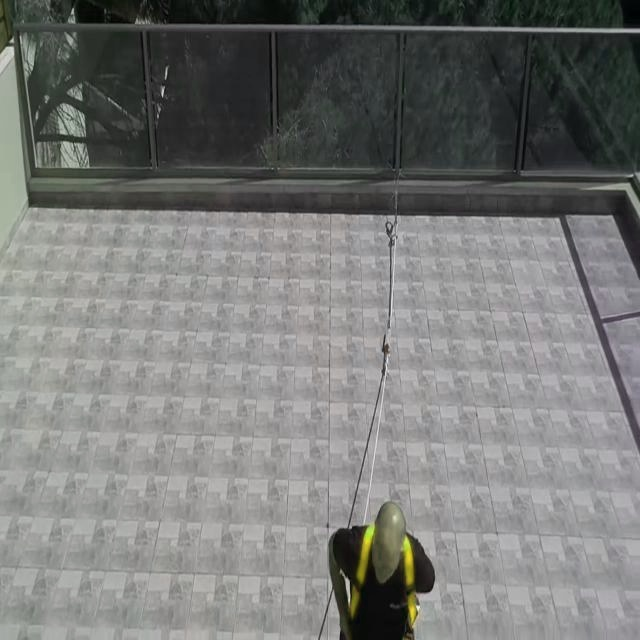safety belt: (360, 519, 433, 633)
